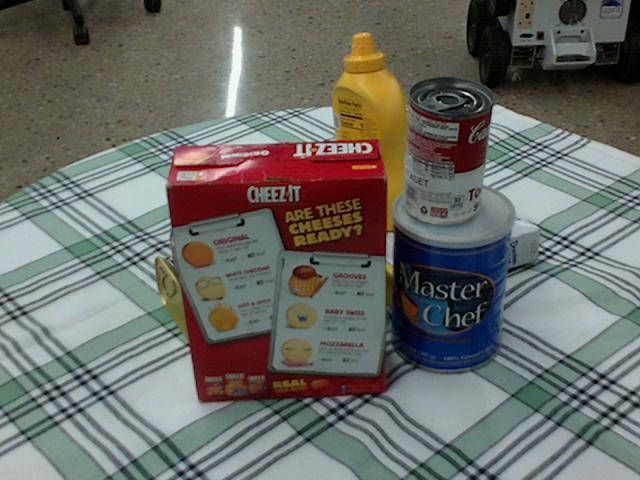cracker_box: (159, 139, 384, 400)
gelatin_box: (313, 178, 413, 249)
master_chef_can: (390, 178, 515, 373)
mug: (260, 211, 359, 328)
mustard_bottle: (331, 33, 414, 230)
potted_meat_can: (155, 240, 275, 345)
sugar_box: (349, 192, 539, 309)
tomato_soup_can: (402, 77, 491, 224)
tuna_fish_can: (170, 209, 262, 288)
